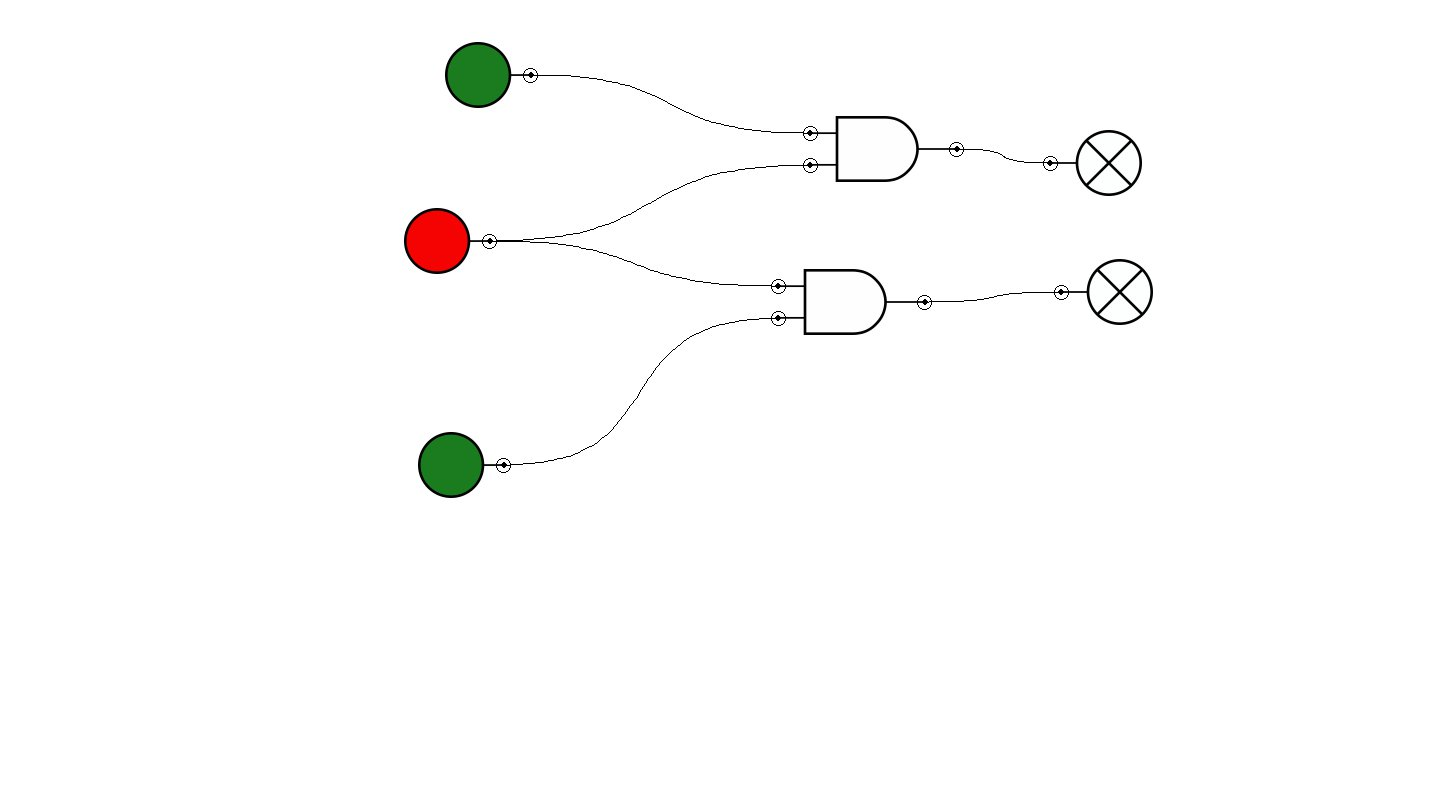and: (771, 269, 932, 335), (803, 116, 964, 182)
bulb: (1043, 130, 1142, 196), (1054, 259, 1153, 325)
switch_False: (404, 208, 497, 274)
switch_True: (445, 42, 538, 108), (418, 432, 511, 498)
